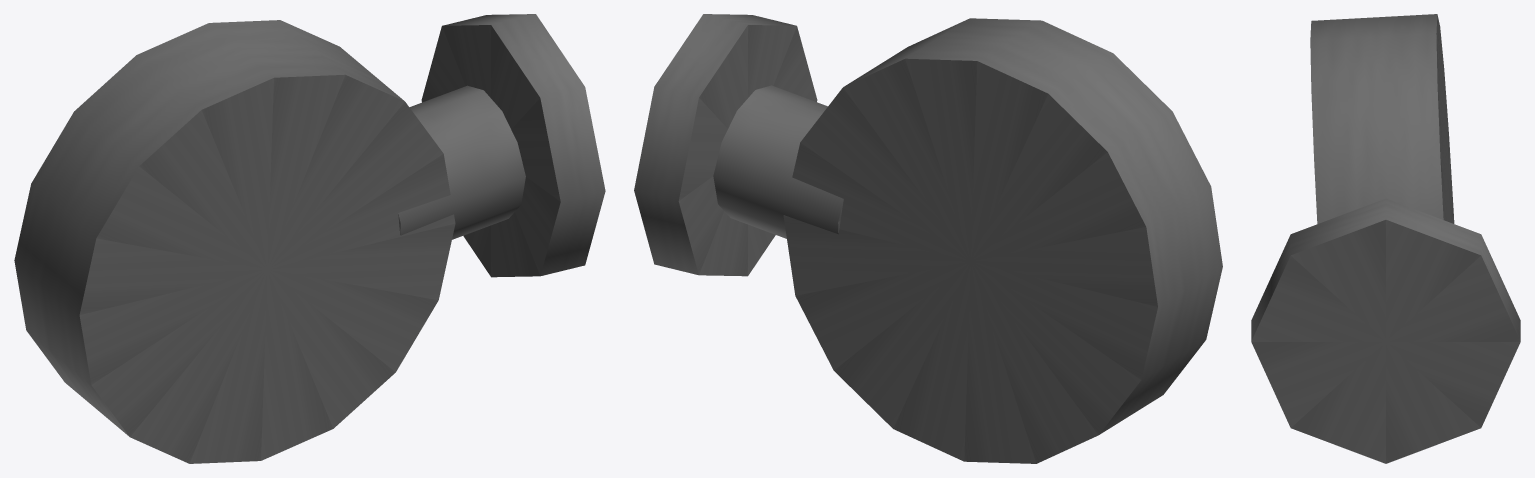
Rendered from mastarmcurve_10x2_c10_east.obj.
3 views of the same model, side by side, from view 1: azimuth 30°, elevation 25°; view 2: azimuth 150°, elevation 25°; view 3: azimuth 270°, elevation 25° (orthographic). The views are drawn at different scales.
Visible parts, largest first — view 1: mastarm_10x2_c10_east; view 2: mastarm_10x2_c10_east; view 3: mastarm_10x2_c10_east.
Boxes of the visible parts, box(x1,y1,x2,y2) form: mastarm_10x2_c10_east: box(14, 14, 605, 463); mastarm_10x2_c10_east: box(634, 14, 1222, 463); mastarm_10x2_c10_east: box(1251, 14, 1520, 463).
Size of the model in its own units: 0.8112 by 0.6339 by 0.4.
